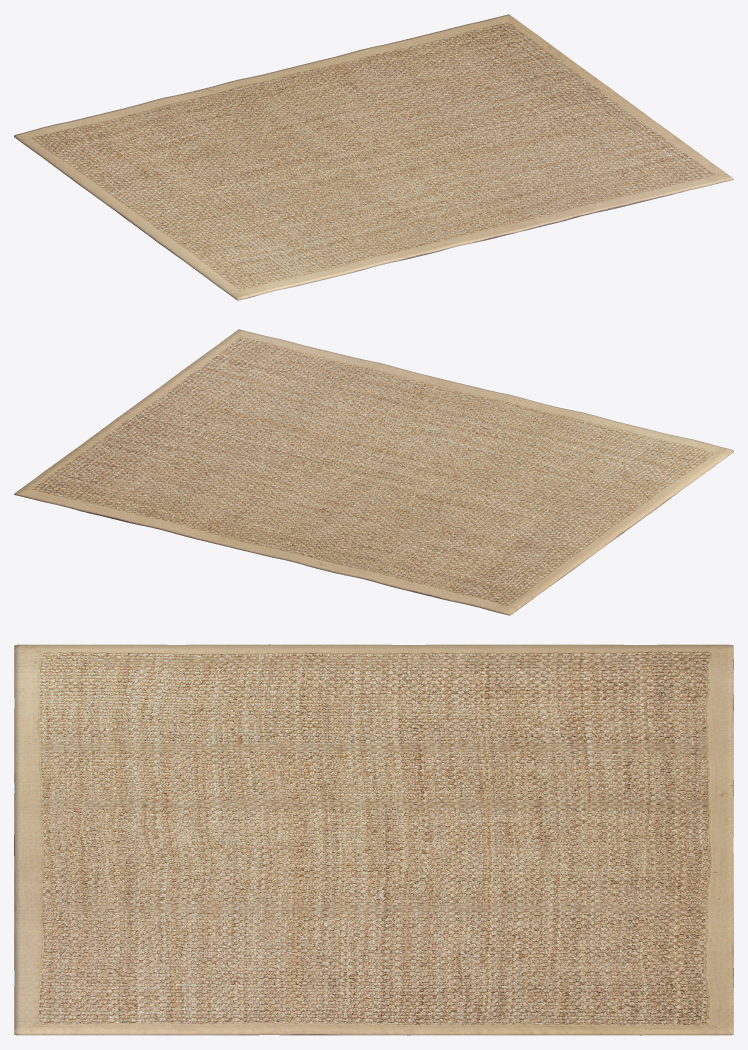
File: QH-亚麻地毯.fbx
3 renders of one model, top to bottom at view 1: azimuth 30°, elevation 25°; view 2: azimuth 150°, elevation 25°; view 3: azimuth 270°, elevation 25°, orthographic. The views are drawn at different scales.
Parts seen in each view (by area): view 1: QH-亚麻地毯; view 2: QH-亚麻地毯; view 3: QH-亚麻地毯.
Part boxes in pixels (x1,y1,x2,y2): QH-亚麻地毯: (14,14,733,300); QH-亚麻地毯: (14,329,733,615); QH-亚麻地毯: (14,644,733,1035).
Size of the model in its own units: 4.01 by 3.14 by 0.0196.
